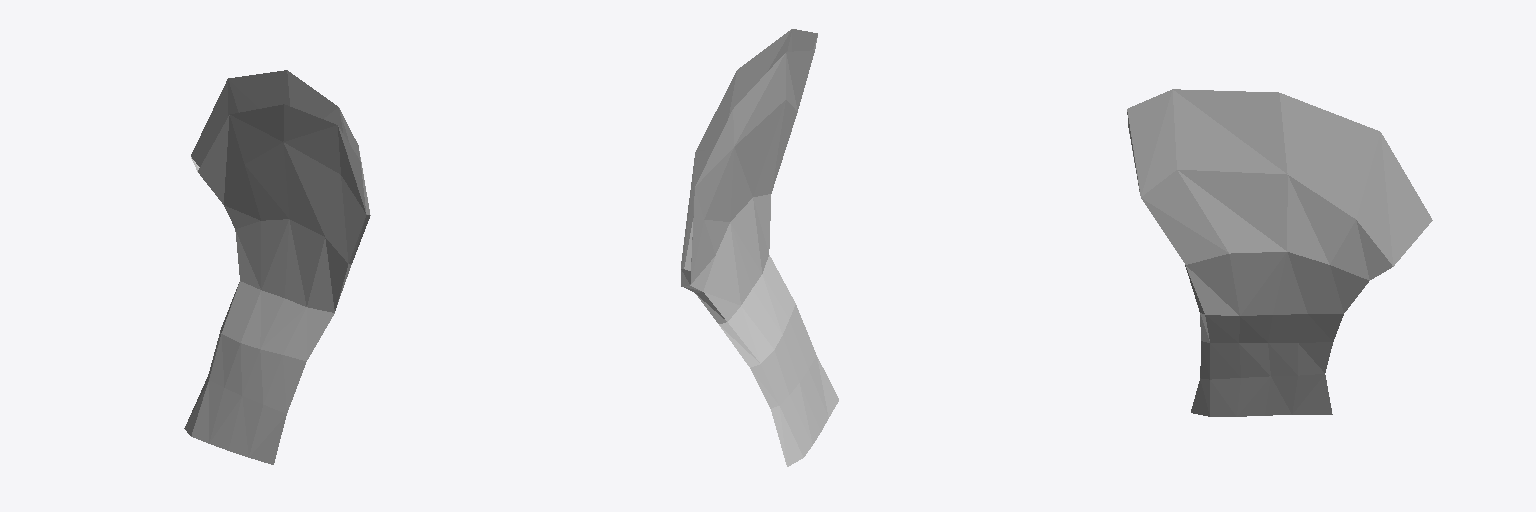
Rendered from Superior_Auricular_Muscle_Left.obj.
3 renders of one model, left to right at view 1: azimuth 30°, elevation 25°; view 2: azimuth 150°, elevation 25°; view 3: azimuth 270°, elevation 25°, orthographic.
Parts seen in each view (by area): view 1: Superior_Auricular_Muscle_Left1_Mesh group1; view 2: Superior_Auricular_Muscle_Left1_Mesh group1; view 3: Superior_Auricular_Muscle_Left1_Mesh group1.
Part boxes in pixels (x1,y1,x2,y2): Superior_Auricular_Muscle_Left1_Mesh group1: (184,70,370,464); Superior_Auricular_Muscle_Left1_Mesh group1: (681,29,838,466); Superior_Auricular_Muscle_Left1_Mesh group1: (1127,89,1432,416).
Size of the model in its own units: 0.1585 by 0.5448 by 0.4171.